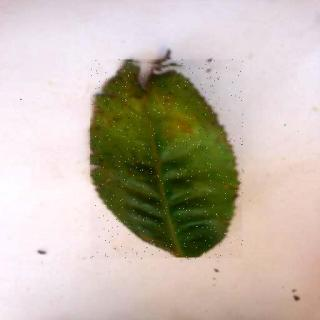Brown Blight: (92, 61, 245, 260)
